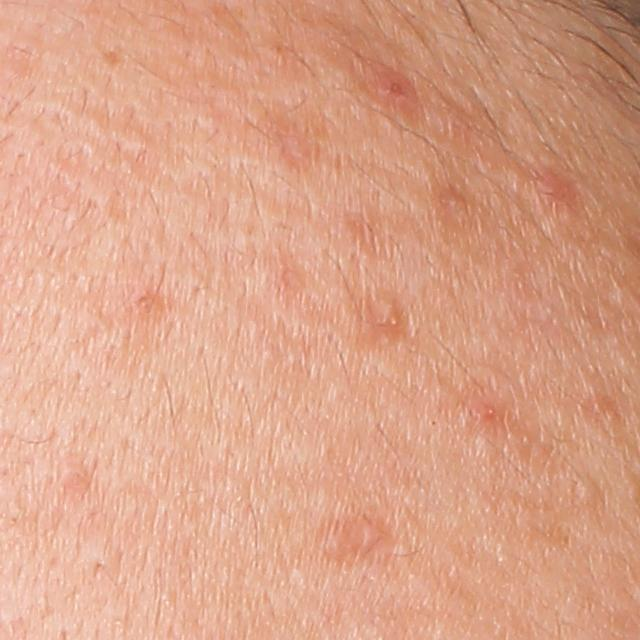comedo: (55, 456, 96, 494)
papule: (530, 167, 579, 208)
